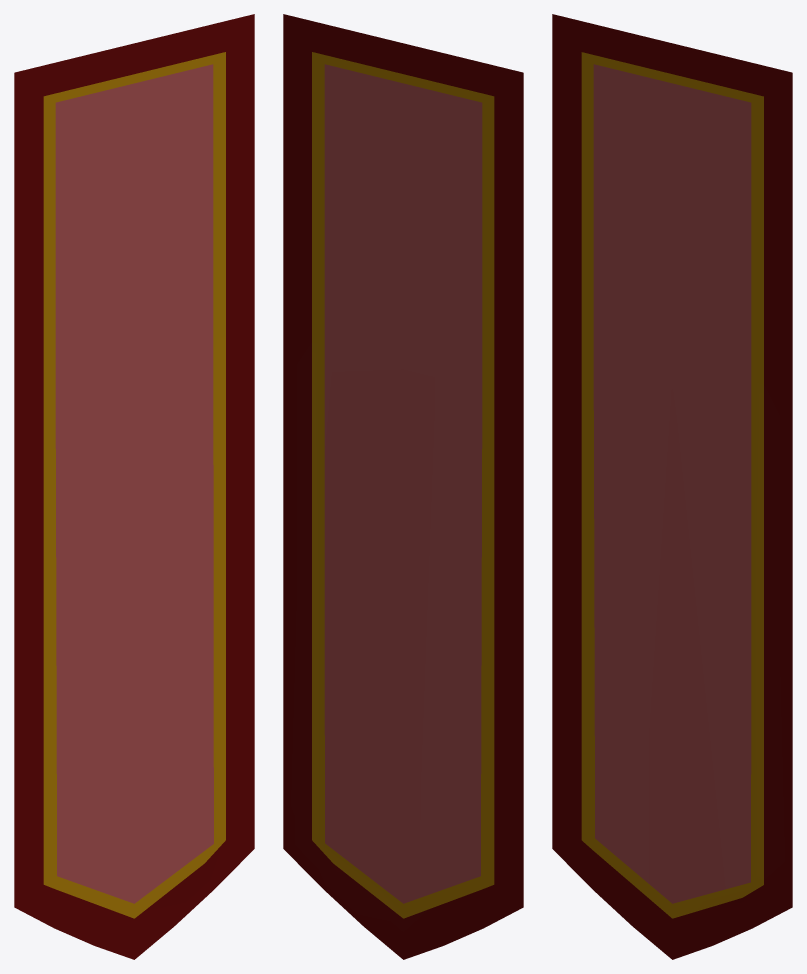
The model's file is banner_red.fbx.
3 views of the same model, side by side, from view 1: azimuth 30°, elevation 25°; view 2: azimuth 150°, elevation 25°; view 3: azimuth 330°, elevation 25° (orthographic).
Parts seen in each view (by area): view 1: pPlane5; view 2: pPlane5; view 3: pPlane5.
Boxes of the visible parts, x1=… form: pPlane5: x1=14, y1=14, x2=254, y2=959; pPlane5: x1=283, y1=14, x2=523, y2=959; pPlane5: x1=552, y1=14, x2=792, y2=959.
Size of the model in its own units: 0.5088 by 1.85 by 0.0015.
